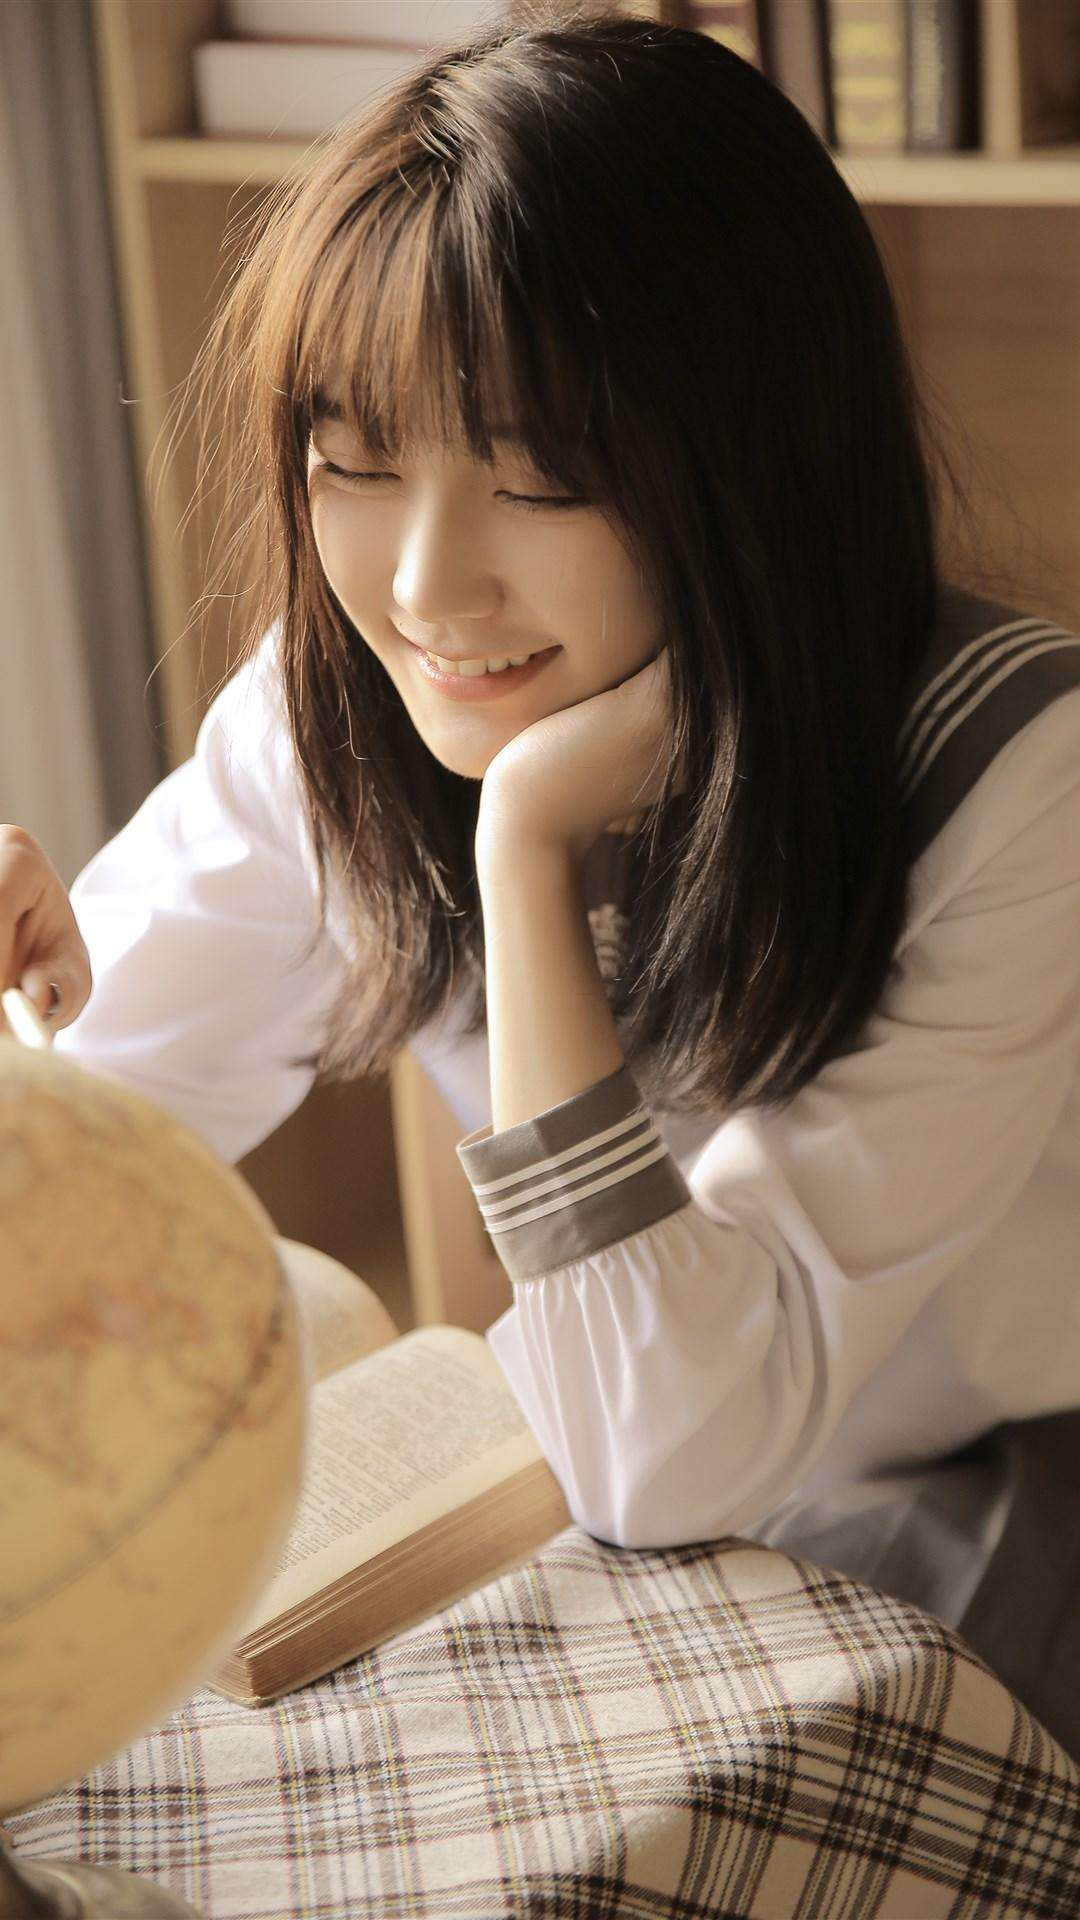person: (171, 55, 1057, 1347)
